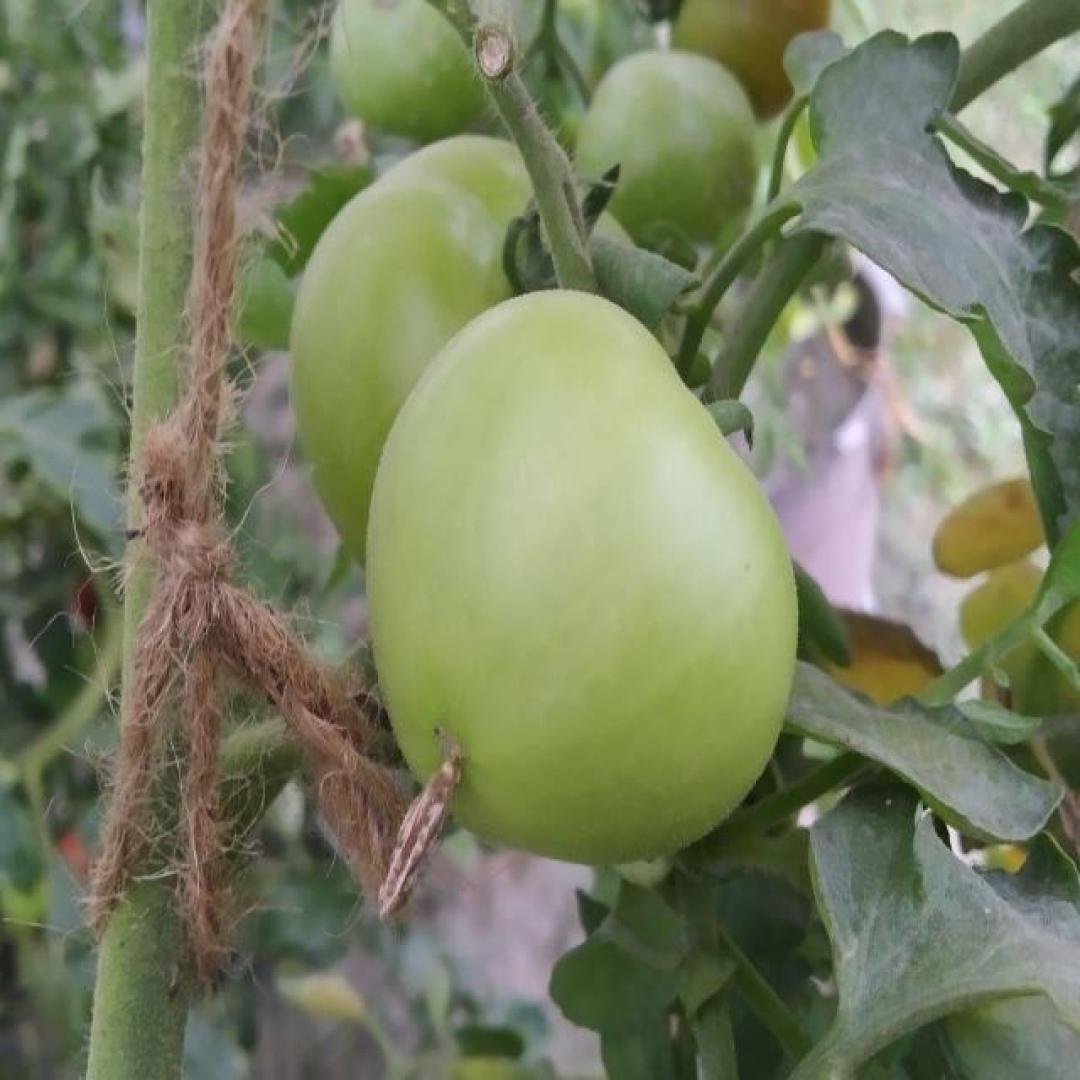mentah: (362, 284, 802, 864)
